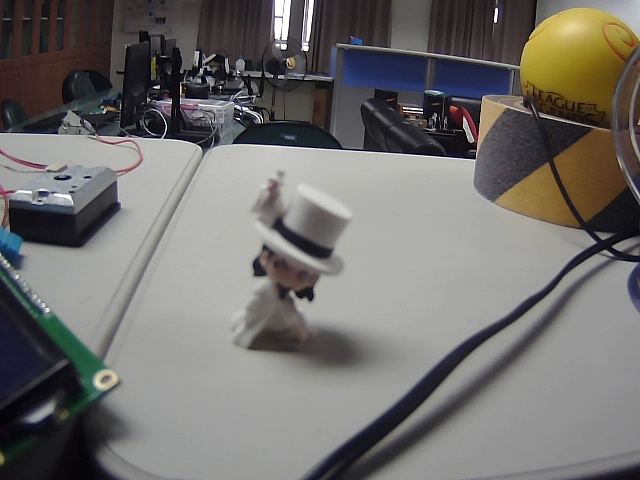lucci: (216, 166, 356, 368)
